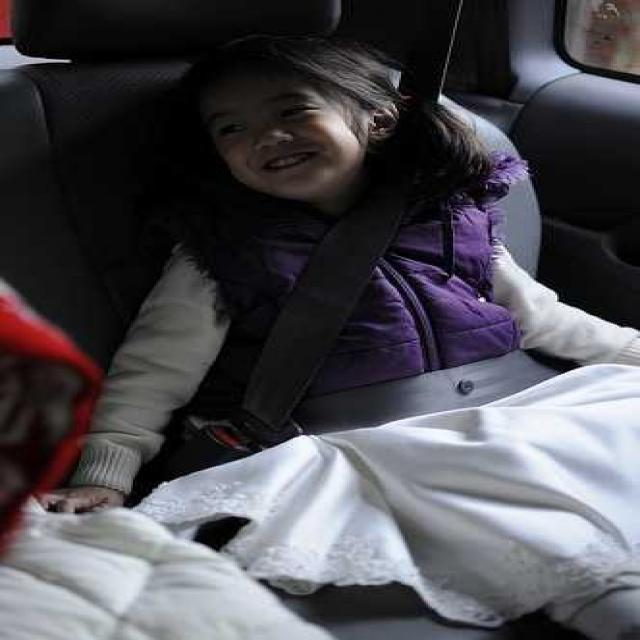seatbelt: (230, 16, 500, 436)
